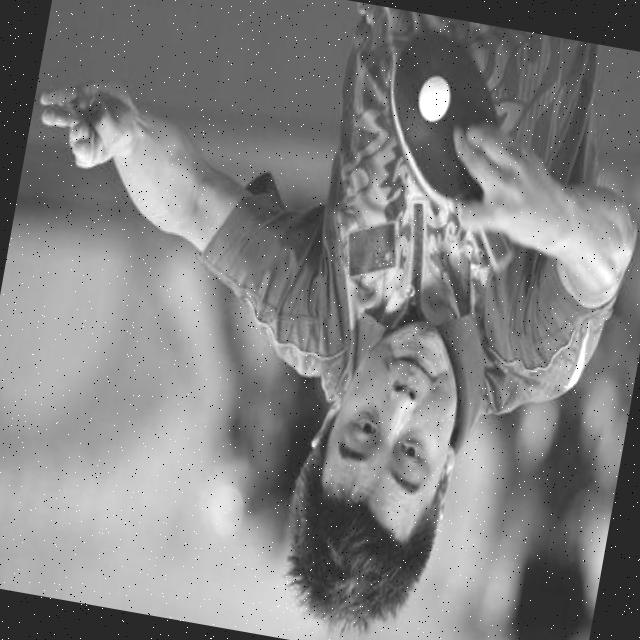ping-pong-ball: (411, 70, 454, 126)
